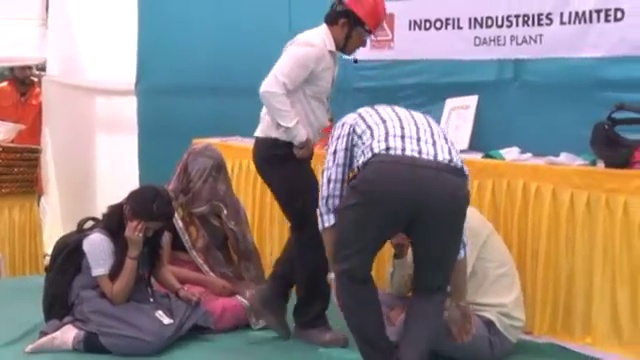helmet: (333, 2, 387, 33)
helmet_off: (107, 184, 178, 243), (174, 149, 232, 217), (6, 58, 31, 89)
helmet_on: (316, 2, 387, 60)
person: (252, 2, 389, 350), (323, 103, 469, 360), (29, 181, 199, 353), (154, 139, 264, 331), (439, 204, 528, 360), (0, 58, 46, 158)
